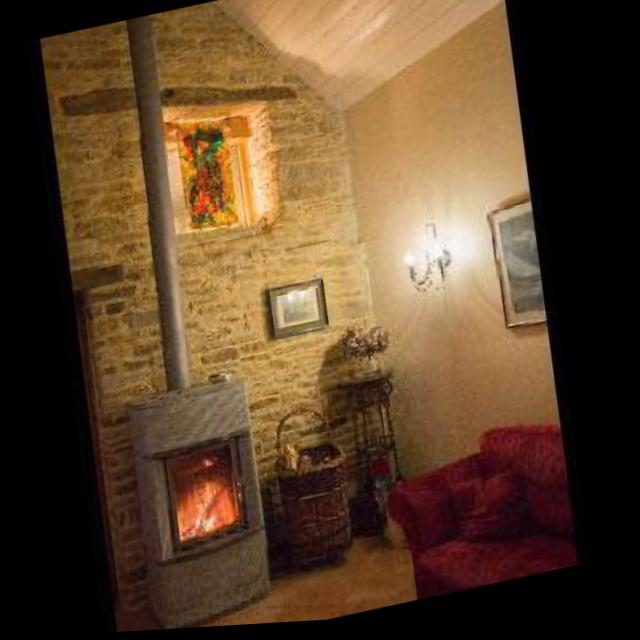Fire: (158, 441, 247, 546)
